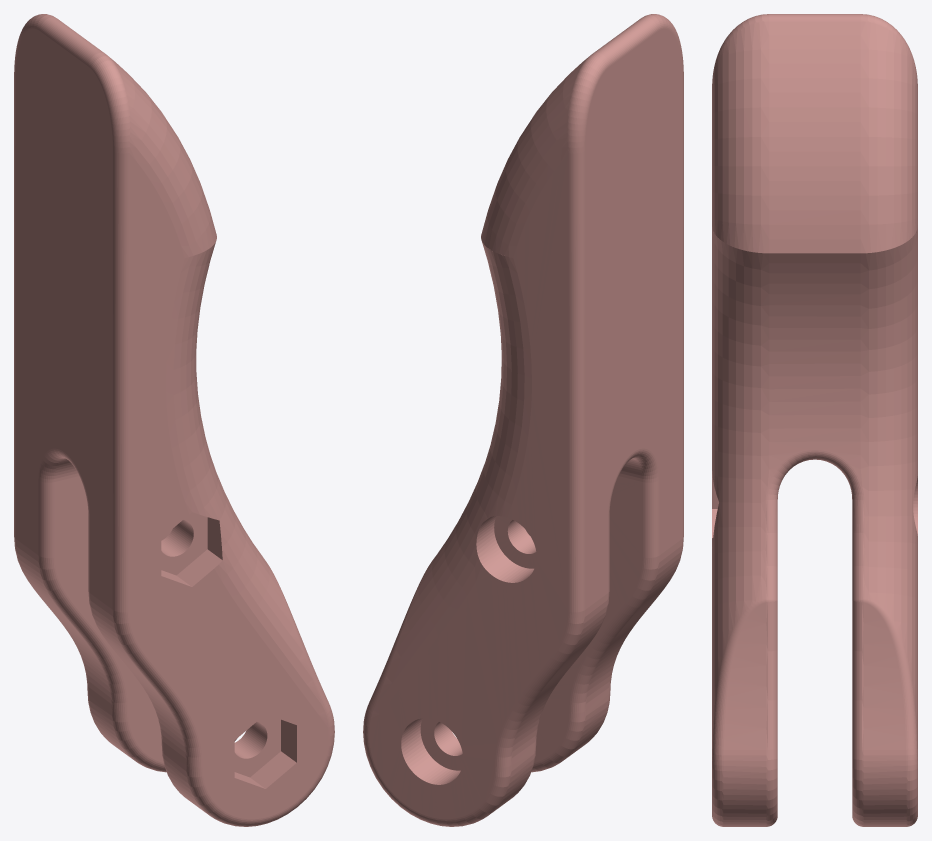
The model's file is gripper_finger.dae.
3 views of the same model, side by side, from view 1: azimuth 30°, elevation 25°; view 2: azimuth 150°, elevation 25°; view 3: azimuth 270°, elevation 25° (orthographic). The views are drawn at different scales.
Visible parts, largest first — view 1: Untitled; view 2: Untitled; view 3: Untitled.
Part boxes in pixels (box(x1,y1,x2,y2)): Untitled: box(14, 14, 334, 826); Untitled: box(363, 14, 683, 826); Untitled: box(712, 14, 917, 826).
Bounding box in the file's own units: 0.021 × 0.018 × 0.0715.
